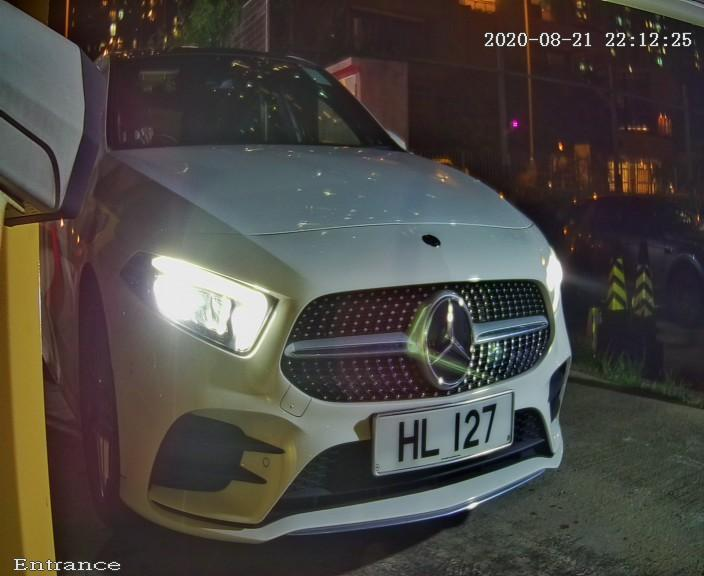Car: (26, 1, 645, 576)
License Plate: (349, 367, 533, 489)
